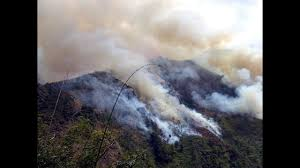smoke: (38, 1, 183, 112), (186, 2, 254, 73)
